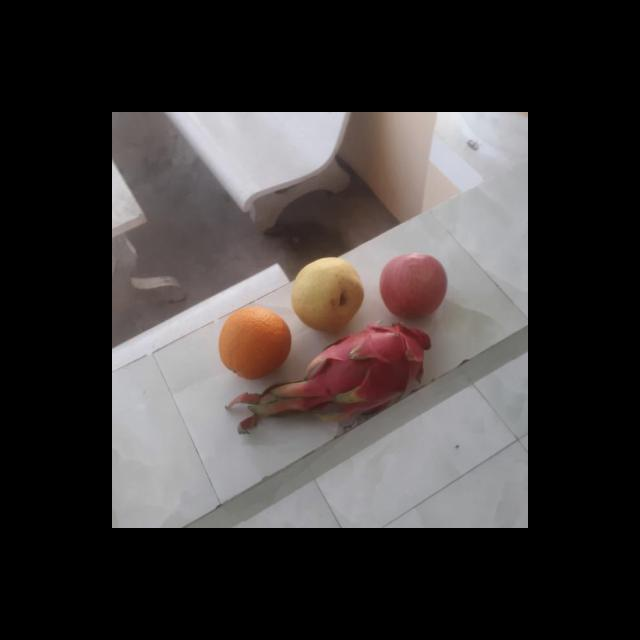apple: (380, 253, 450, 320)
orange: (218, 307, 294, 377)
pear: (287, 258, 368, 332)
pitaya: (306, 320, 436, 410)
